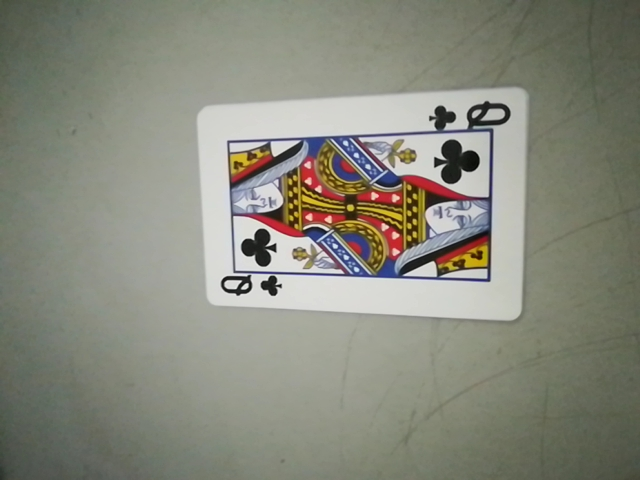mh q: (430, 96, 513, 133), (214, 271, 286, 305)
